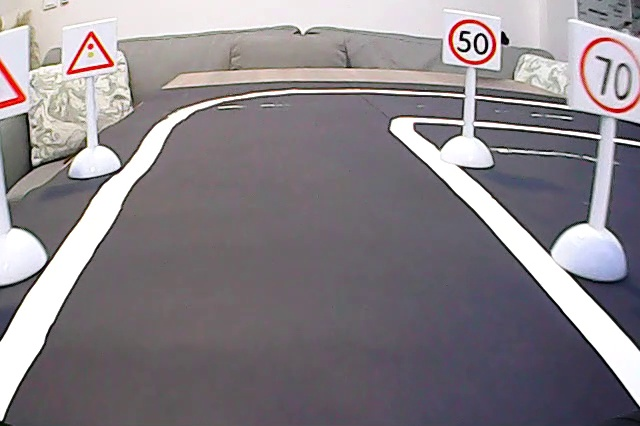red light: (65, 27, 117, 76)
speed limit 50: (446, 14, 499, 69)
speed limit 70: (577, 32, 640, 116)
